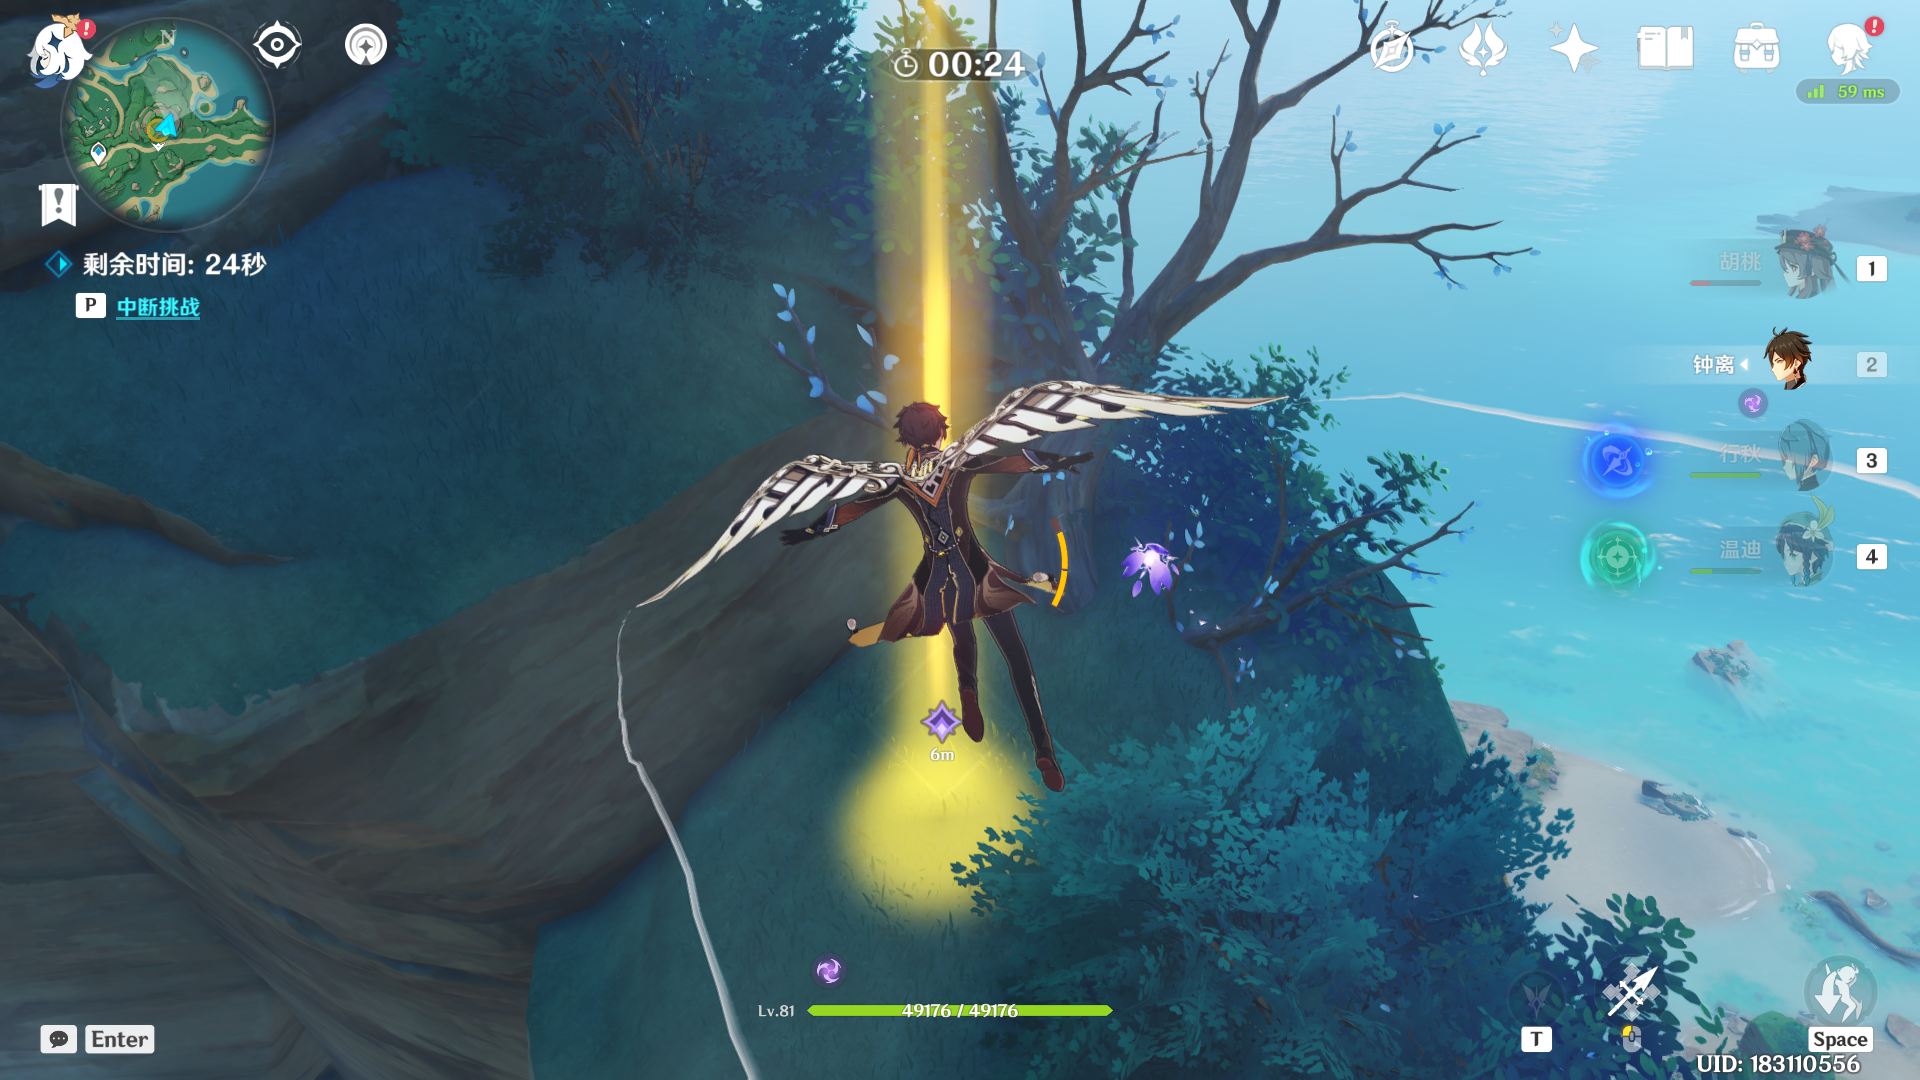character: (748, 335, 1135, 822)
